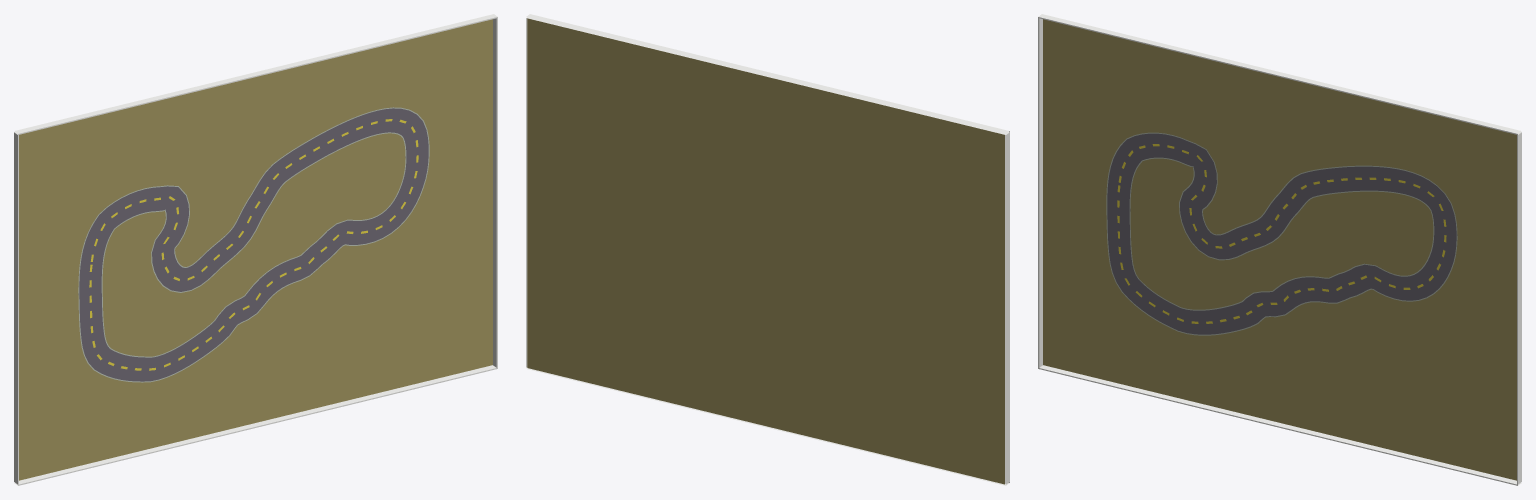
The model's file is track.obj.
3 views of the same model, side by side, from view 1: azimuth 30°, elevation 25°; view 2: azimuth 150°, elevation 25°; view 3: azimuth 330°, elevation 25° (orthographic).
Size of the model in its own units: 21.2 by 14.86 by 0.3.
